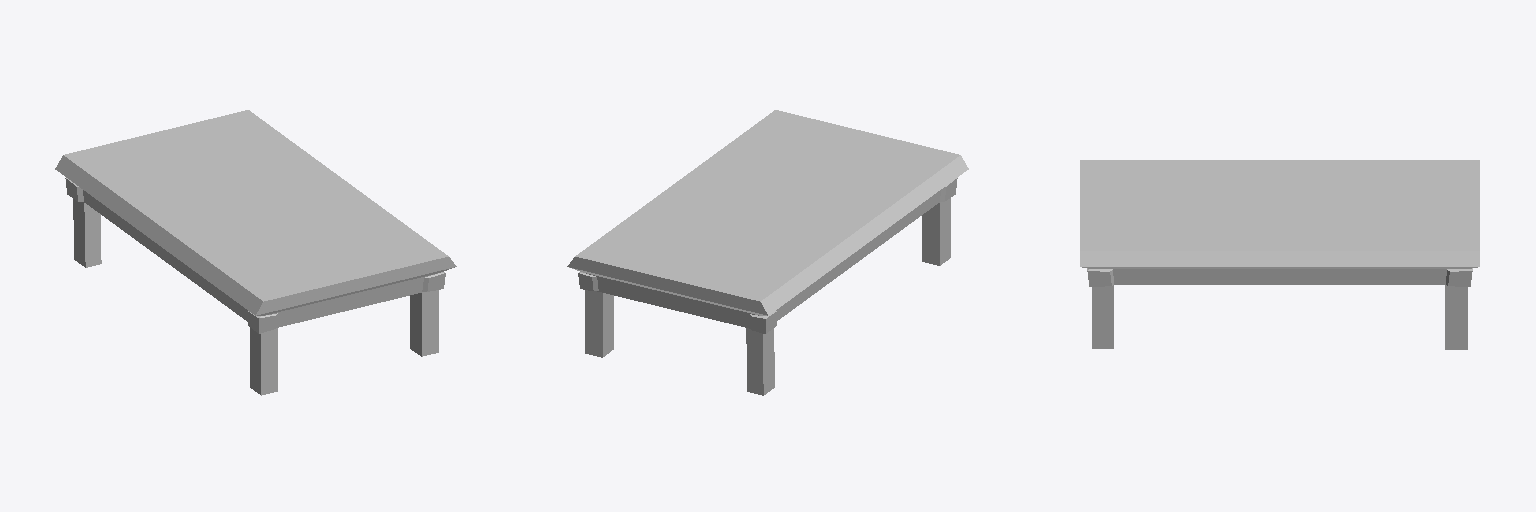
The model's file is Coffee_Table.obj.
3 views of the same model, side by side, from view 1: azimuth 30°, elevation 25°; view 2: azimuth 150°, elevation 25°; view 3: azimuth 270°, elevation 25° (orthographic).
Parts seen in each view (by area): view 1: Cube; view 2: Cube; view 3: Cube.
Boxes of the visible parts, x1=… form: Cube: x1=55, y1=110, x2=456, y2=395; Cube: x1=567, y1=110, x2=968, y2=395; Cube: x1=1080, y1=160, x2=1479, y2=349.
Bounding box in the file's own units: 6.51 × 3.11 × 11.22.